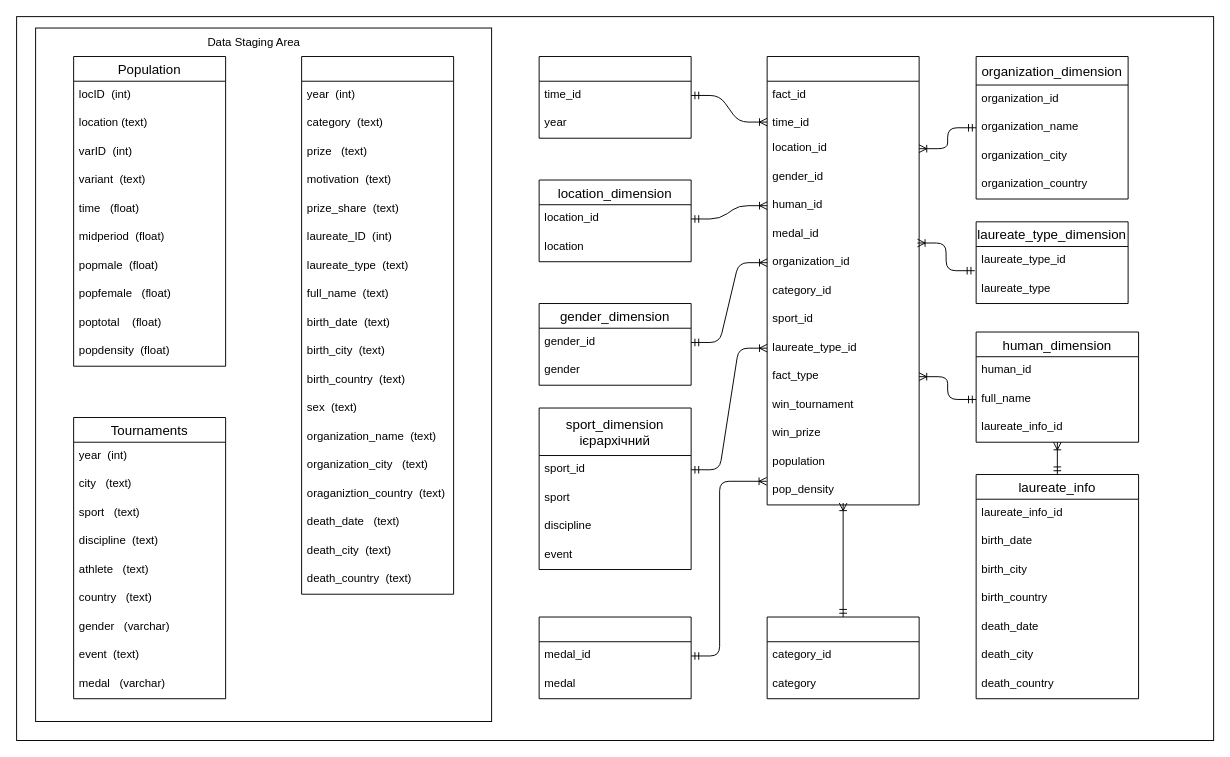
The diagram is 1230 pixels wide and 757 high, and some of its shapes have lost their labels. Each missing label, with the box of its shape:
category_dimension: (766, 616, 919, 699)
Fact_Table: (766, 56, 919, 505)
medal_dimension: (538, 616, 691, 699)
Nobel_Laureates: (301, 56, 454, 594)
time_dimension: (538, 56, 691, 138)
